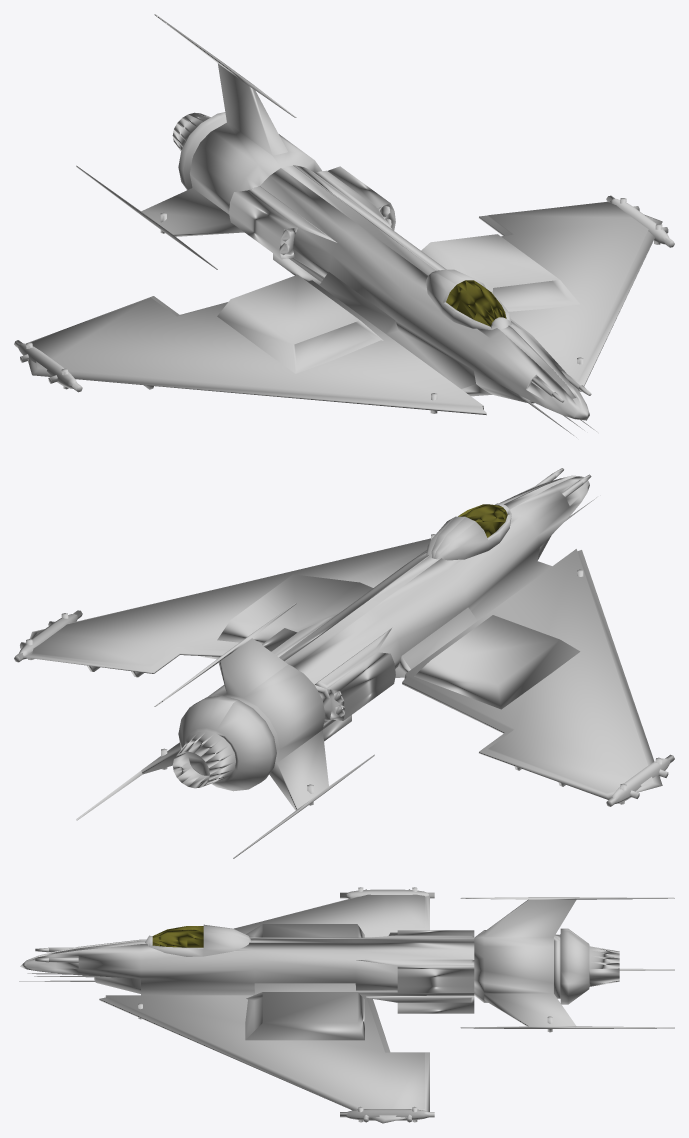
The model's file is Razor.fbx.
3 renders of one model, top to bottom at view 1: azimuth 30°, elevation 25°; view 2: azimuth 150°, elevation 25°; view 3: azimuth 270°, elevation 25°, orthographic. The views are drawn at different scales.
Visible parts, largest first — view 1: Razor; view 2: Razor; view 3: Razor.
Boxes of the visible parts, bbox=[...] form: Razor: bbox=[14, 14, 674, 437]; Razor: bbox=[14, 468, 674, 858]; Razor: bbox=[19, 887, 674, 1123].
Size of the model in its own units: 340 by 77.98 by 407.
